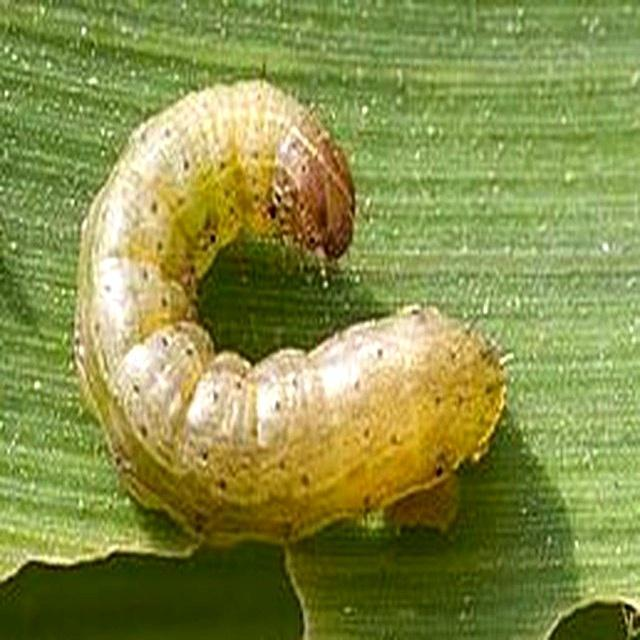Plaga: (75, 78, 510, 545)
